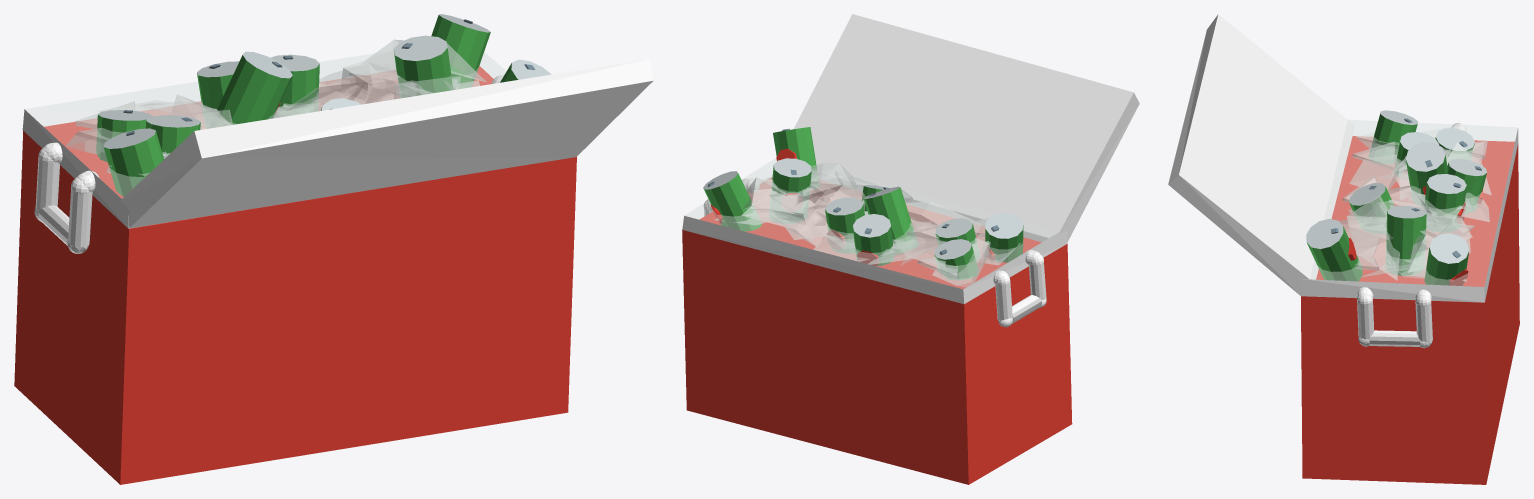
The model's file is Red_Cooler_Open_with_Beer.glb.
3 views of the same model, side by side, from view 1: azimuth 30°, elevation 25°; view 2: azimuth 150°, elevation 25°; view 3: azimuth 270°, elevation 25° (orthographic). The views are drawn at different scales.
Parts seen in each view (by area): view 1: group1410695581, group2122718482, group228052646, group1863821907, group1847893338, group1716336206, group2106093180, group513927594, group1306447254, group699203081, group1810612264, group1112212794 (+11 smaller); view 2: group1410695581, group2122718482, group228052646, group2106093180, group513927594, group2046907412, group1863821907, group1716336206, group155916710, group1810612264, group1847893338, group1306447254 (+17 smaller); view 3: group1410695581, group2122718482, group228052646, group699203081, group1385866266, group1847893338, group2106093180, group1306447254, group1863821907, group513927594, group1716336206, group173307192 (+15 smaller).
Part boxes in pixels (x1,y1,x2,y2): group1410695581: [14, 66, 576, 484]; group2122718482: [120, 59, 653, 228]; group228052646: [22, 52, 506, 228]; group1863821907: [216, 51, 292, 124]; group1847893338: [393, 35, 452, 97]; group1716336206: [103, 128, 163, 196]; group2106093180: [431, 14, 490, 88]; group513927594: [283, 39, 486, 112]; group1306447254: [270, 54, 319, 111]; group699203081: [366, 74, 460, 103]; group1810612264: [96, 110, 152, 162]; group1112212794: [145, 115, 200, 156]; group1410695581: [682, 177, 1072, 484]; group2122718482: [794, 14, 1139, 242]; group228052646: [682, 158, 1067, 303]; group2106093180: [703, 171, 762, 231]; group513927594: [743, 177, 827, 225]; group2046907412: [741, 190, 823, 246]; group1863821907: [863, 186, 914, 254]; group1716336206: [985, 213, 1023, 262]; group155916710: [853, 214, 893, 265]; group1810612264: [934, 239, 978, 279]; group1847893338: [771, 158, 811, 221]; group1306447254: [825, 197, 864, 253]; group1410695581: [1301, 136, 1519, 484]; group2122718482: [1168, 14, 1354, 295]; group228052646: [1300, 120, 1518, 302]; group699203081: [1347, 195, 1399, 280]; group1385866266: [1306, 219, 1362, 281]; group1847893338: [1386, 206, 1426, 275]; group2106093180: [1424, 233, 1469, 285]; group1306447254: [1424, 174, 1466, 223]; group1863821907: [1405, 141, 1447, 203]; group513927594: [1408, 200, 1468, 272]; group1716336206: [1369, 110, 1417, 162]; group173307192: [1349, 183, 1393, 217].
Size of the model in its own units: 0.4921 by 0.4292 by 0.439.
